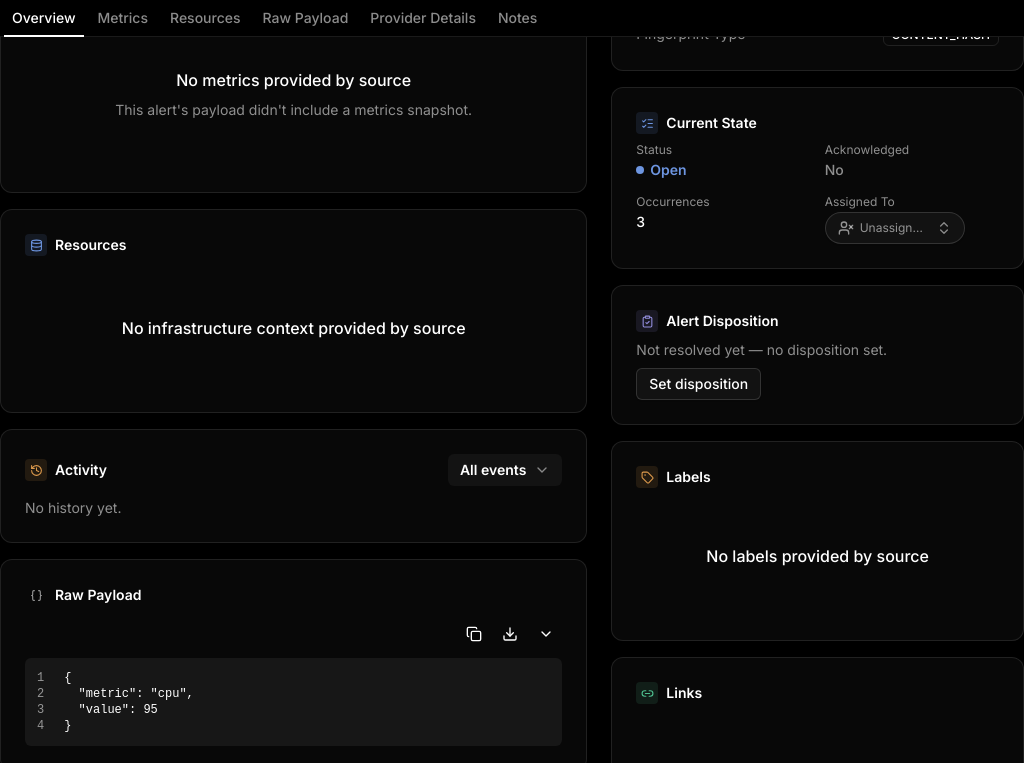
it: AlertDetailPage — disposition › shows a set-disposition prompt and opens the dialog
(page scrolled)
Expected: the text "Not resolved yet — no disposition set." is shown, [636,341,887,358]
Click the button "Set disposition". click: coordinates (699, 384)
box: [636,368,761,400]
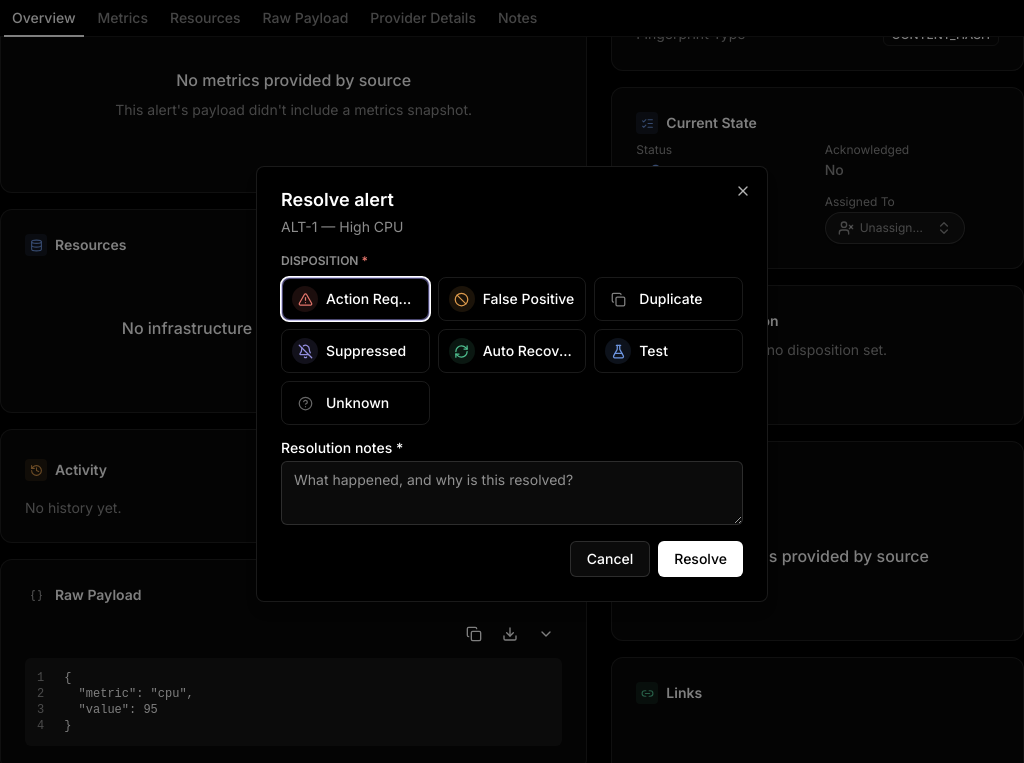
Now the heading "Resolve alert" is shown, box [281,189,394,210]
